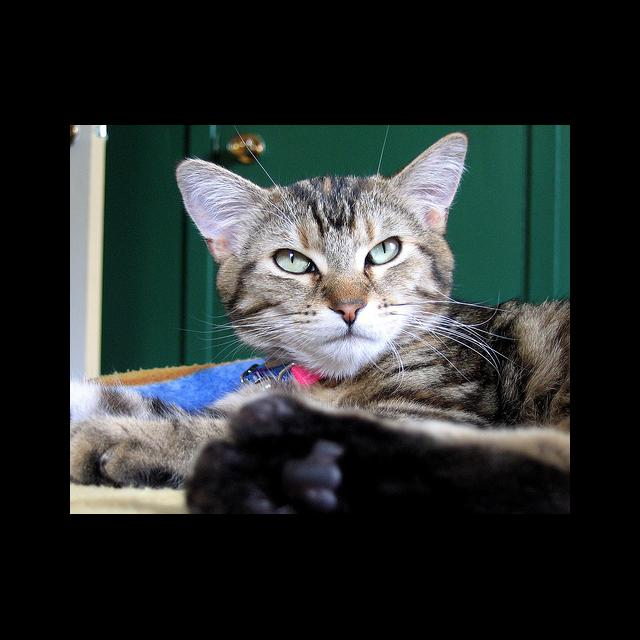animals: (183, 134, 462, 322)
